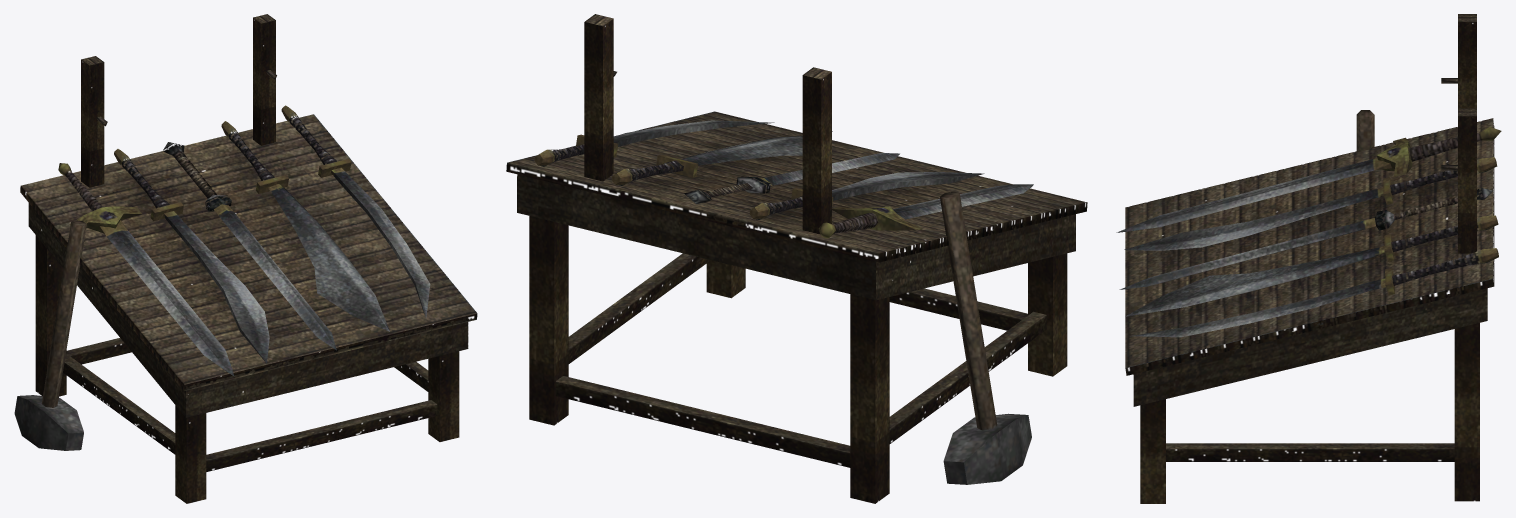
Rendered from ep_b_general_obj_26.glb.
3 renders of one model, left to right at view 1: azimuth 30°, elevation 25°; view 2: azimuth 150°, elevation 25°; view 3: azimuth 270°, elevation 25°, orthographic. The views are drawn at different scales.
Parts seen in each view (by area): view 1: ep_B_general_obj_26; view 2: ep_B_general_obj_26; view 3: ep_B_general_obj_26.
Boxes of the visible parts, box(x1,y1,x2,y2) form: ep_B_general_obj_26: box(14, 14, 477, 503); ep_B_general_obj_26: box(506, 14, 1087, 503); ep_B_general_obj_26: box(1116, 14, 1501, 503).
Bounding box in the file's own units: 1.6 × 1.47 × 1.4.
1 material, 1 textured.
